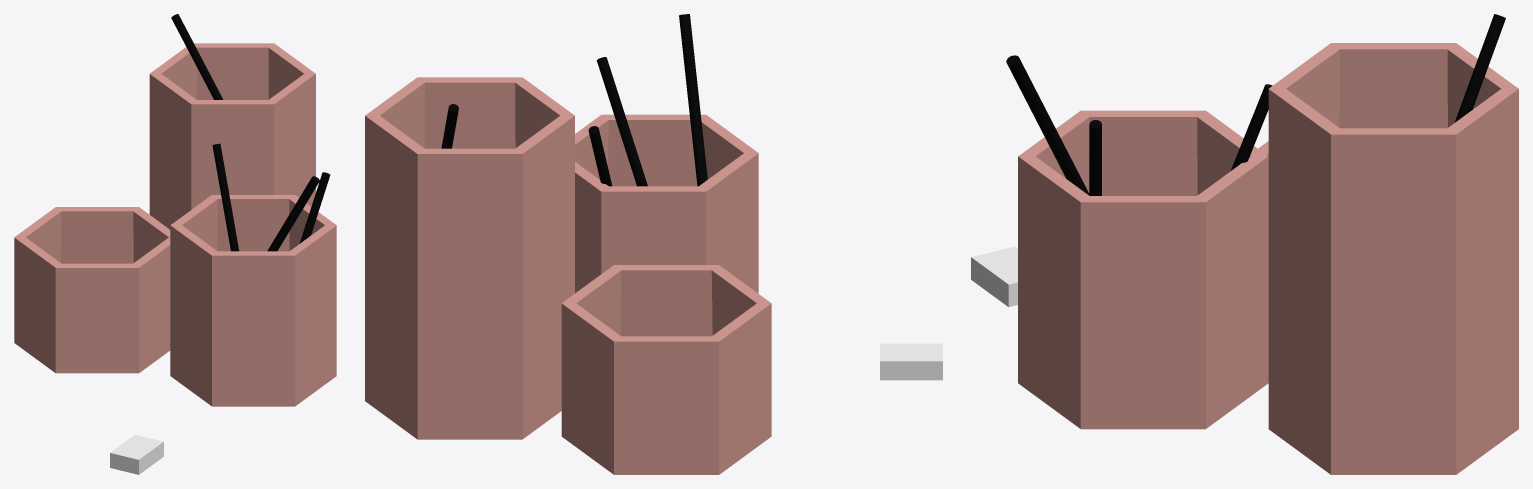
Rendered from portapenne_gomma.fbx.
3 renders of one model, left to right at view 1: azimuth 30°, elevation 25°; view 2: azimuth 150°, elevation 25°; view 3: azimuth 270°, elevation 25°, orthographic. The views are drawn at different scales.
Parts seen in each view (by area): view 1: portapenne_gomma; view 2: portapenne_gomma; view 3: portapenne_gomma.
Boxes of the visible parts, left/top/right/bottom form: portapenne_gomma: left=14, top=14, right=336, bottom=474; portapenne_gomma: left=365, top=14, right=942, bottom=474; portapenne_gomma: left=971, top=14, right=1518, bottom=474.
Size of the model in its own units: 21.59 by 18.59 by 21.88.
1 material, 1 textured.
